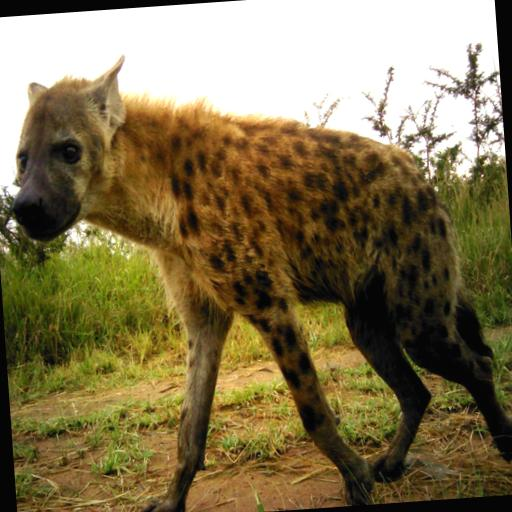hyenas: (0, 17, 501, 512)
